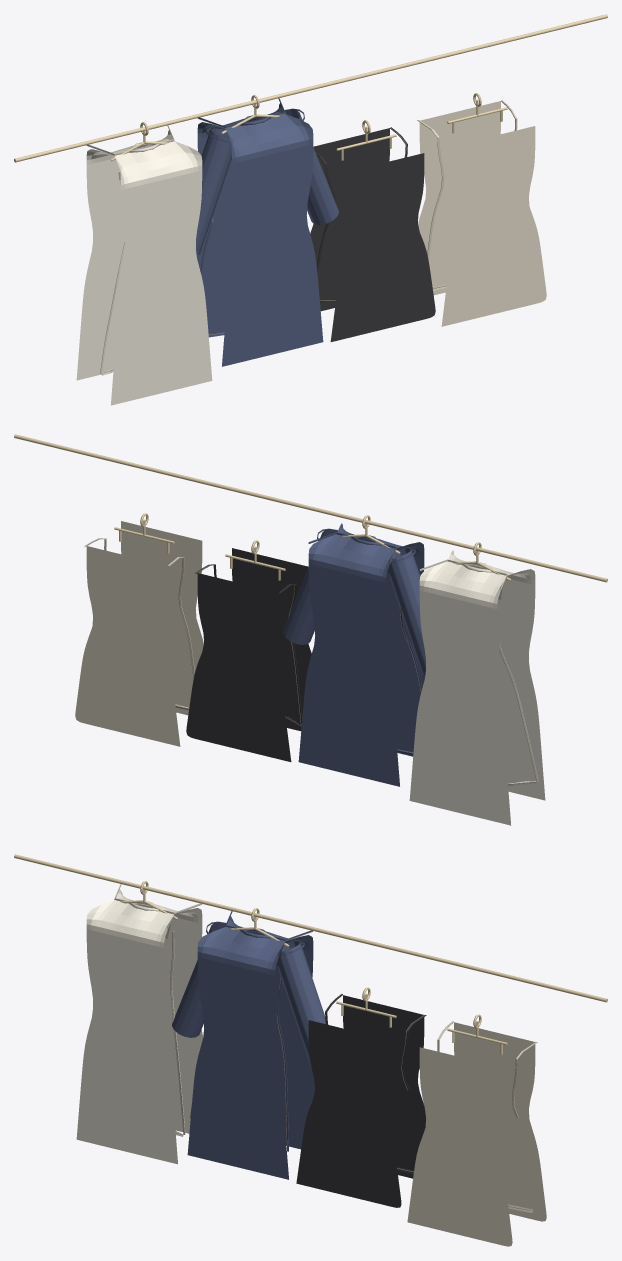
The picture shows the model from 3 angles, top to bottom: view 1: azimuth 30°, elevation 25°; view 2: azimuth 150°, elevation 25°; view 3: azimuth 330°, elevation 25°; orthographic projection.
Parts seen in each view (by area): view 1: dress_cream_sl, dress_navy_long, skirt_beige, skirt_black, Cylinder.020, Cylinder.003, Cylinder.005; view 2: dress_cream_sl, dress_navy_long, skirt_beige, skirt_black, Cylinder.020, Cylinder.003, Cylinder.005; view 3: dress_cream_sl, dress_navy_long, skirt_beige, skirt_black, Cylinder.020, Cylinder.005, Cylinder.003.
Part boxes in pixels (left/top/right/bottom): dress_cream_sl: left=76, top=130, right=212, bottom=405; dress_navy_long: left=196, top=103, right=323, bottom=366; skirt_beige: left=418, top=101, right=546, bottom=326; skirt_black: left=310, top=128, right=435, bottom=341; Cylinder.020: left=14, top=14, right=607, bottom=162; Cylinder.003: left=196, top=128, right=231, bottom=254; Cylinder.005: left=285, top=109, right=338, bottom=224; dress_cream_sl: left=409, top=550, right=545, bottom=825; dress_navy_long: left=298, top=523, right=425, bottom=786; skirt_beige: left=75, top=521, right=203, bottom=746; skirt_black: left=186, top=548, right=311, bottom=761; Cylinder.020: left=14, top=434, right=607, bottom=582; Cylinder.003: left=390, top=548, right=425, bottom=674; Cylinder.005: left=283, top=529, right=337, bottom=644; dress_cream_sl: left=76, top=889, right=202, bottom=1164; dress_navy_long: left=187, top=916, right=314, bottom=1179; skirt_beige: left=407, top=1022, right=546, bottom=1246; skirt_black: left=296, top=995, right=425, bottom=1207; Cylinder.020: left=14, top=854, right=607, bottom=1002; Cylinder.005: left=279, top=941, right=325, bottom=1067; Cylinder.003: left=172, top=922, right=225, bottom=1037.
Bounding box in the file's own units: 3.2 × 1.34 × 0.3265.
